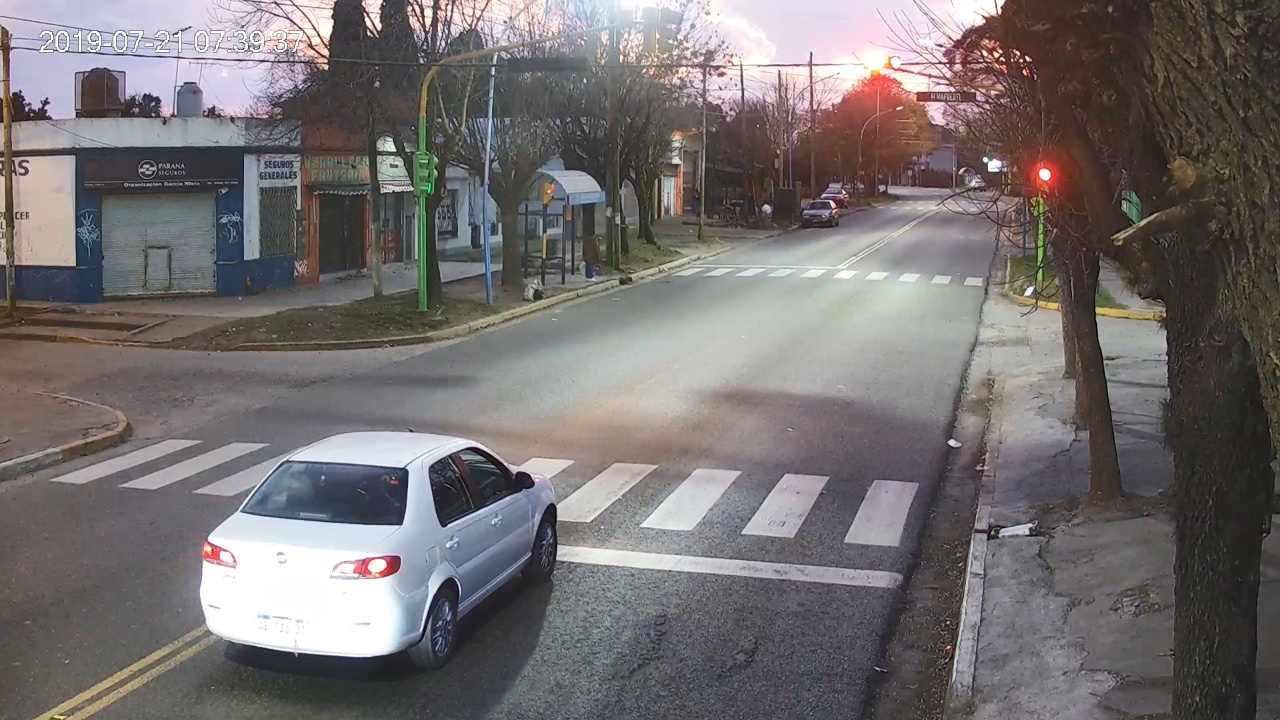car: (201, 431, 558, 668)
traffic light: (869, 53, 882, 89)
